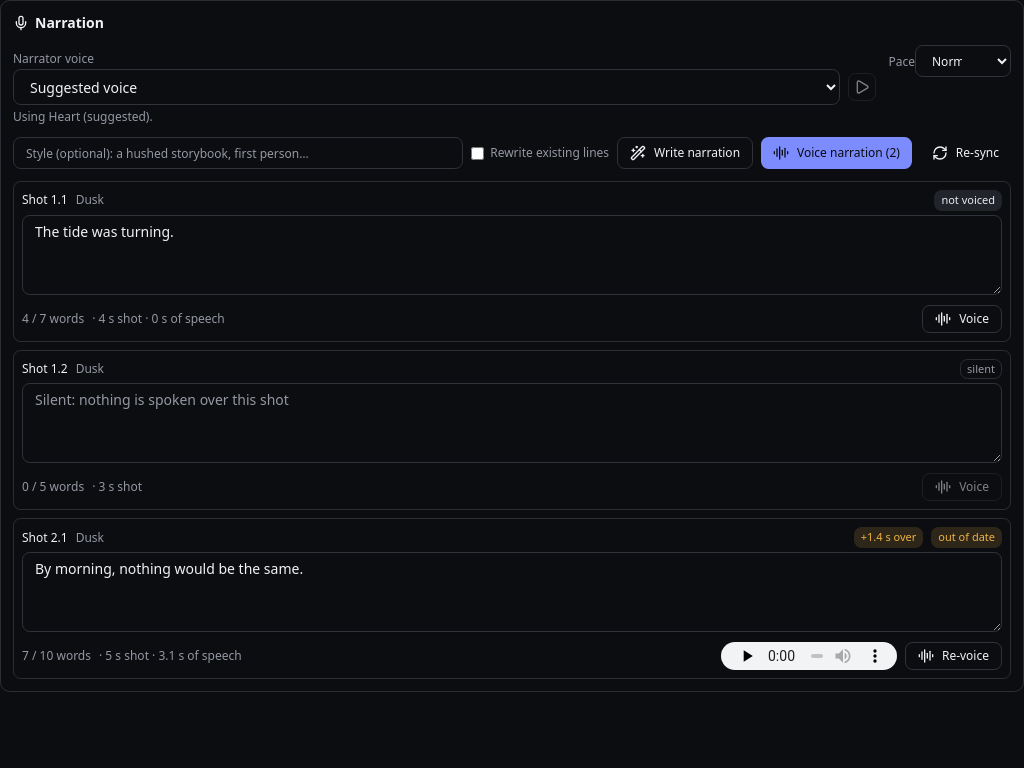
Test: editing a line saves it to the shot when the field loses focus
This screenshot has width=1024, height=768.
Replace the text in the text box named "Narration for shot 1.1" with "A new line." at (512, 255), box [22,215,1002,295]
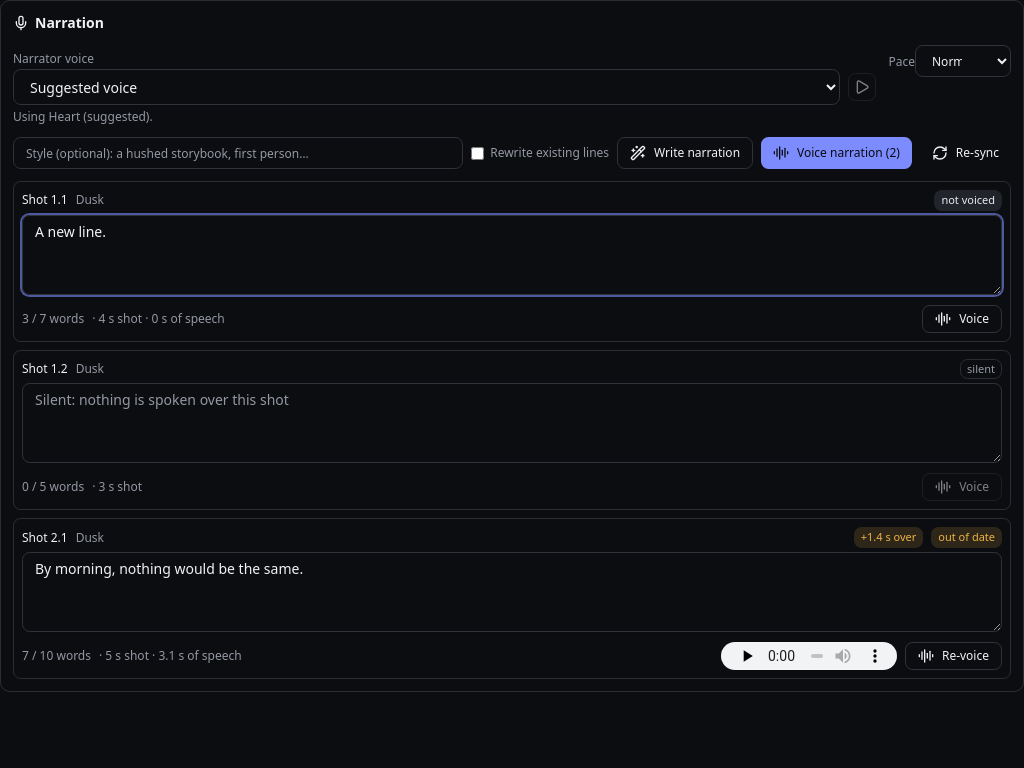
Expected: the text "3 / 7 words" is shown, [22,311,84,327]
